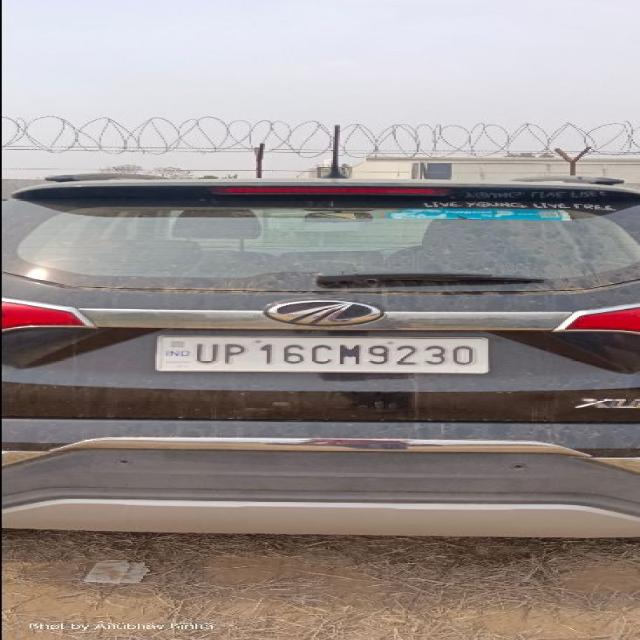license_plate: (152, 334, 490, 374)
